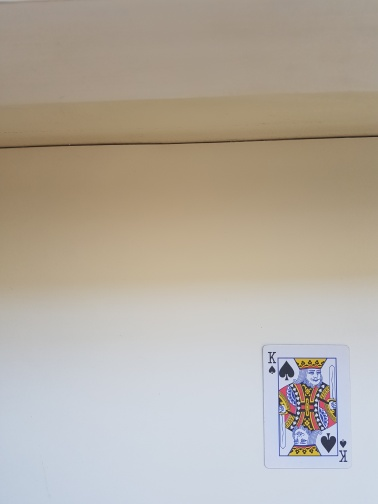king: (261, 342, 351, 469)
